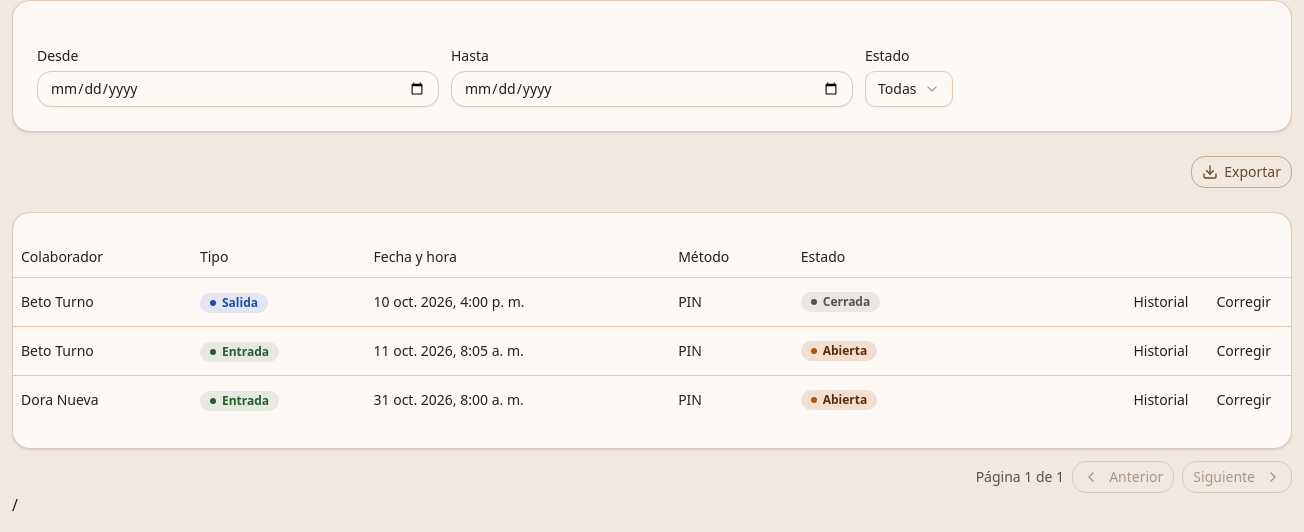
Test case: botón Exportar de los listados › Asistencia sin rango abre Exportaciones con las fechas disponibles
Expected: the text "Dora Nueva" is shown, top-left (21, 390), bottom-right (99, 408)
Click the button with aria-label "Exportar Asistencia en Excel" at {"x": 1242, "y": 172}, box top-left (1191, 156), bottom-right (1292, 188)
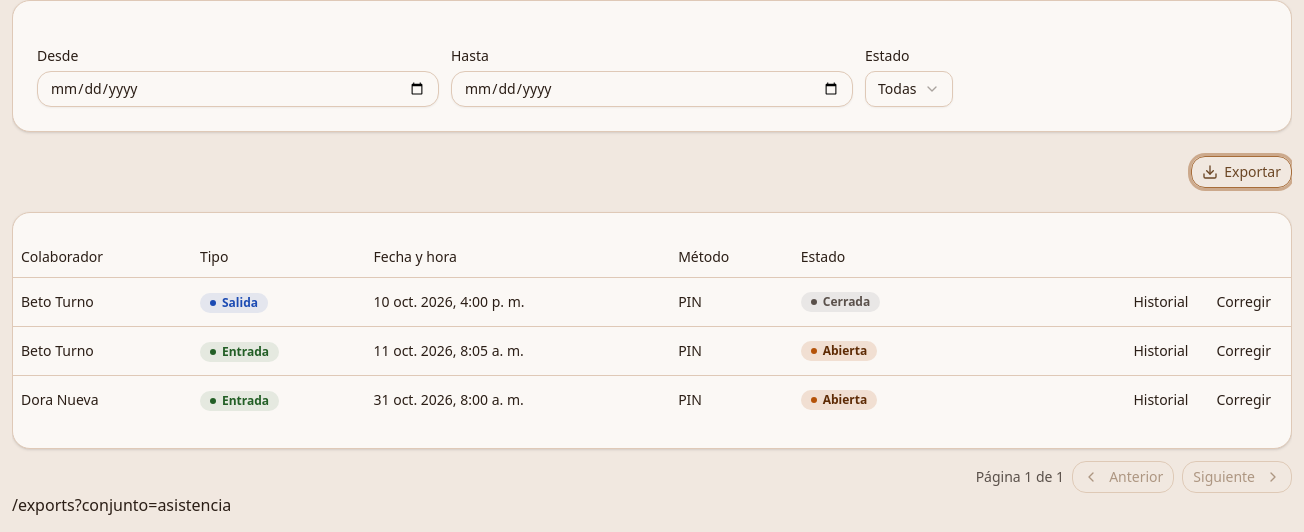
Result: the text "/exports?conjunto=asistencia" is shown at top-left (12, 494), bottom-right (231, 516)
